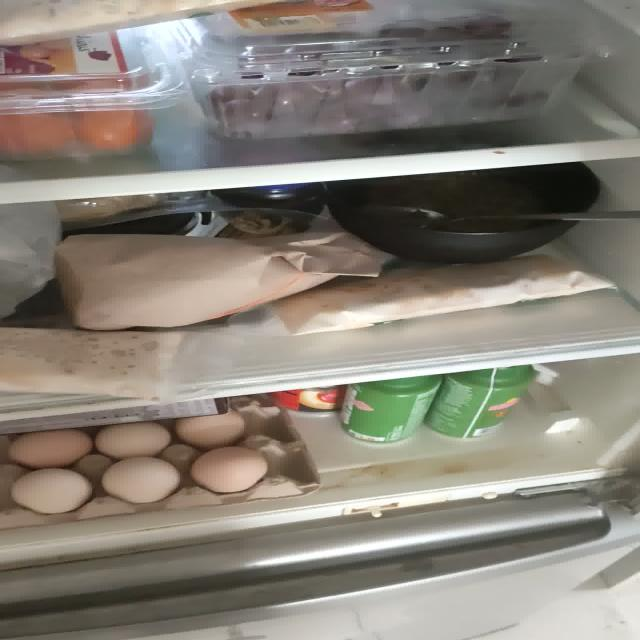egg: (0, 411, 324, 530)
grape: (204, 16, 544, 139)
tempeh: (276, 254, 616, 336), (0, 326, 185, 402)
